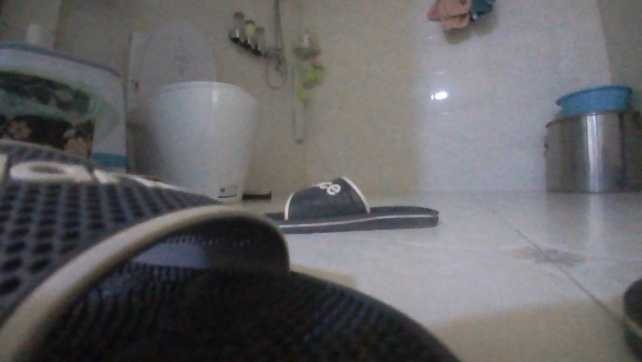slipper: (0, 141, 461, 360), (263, 170, 443, 236)
toilet: (119, 22, 260, 205)
